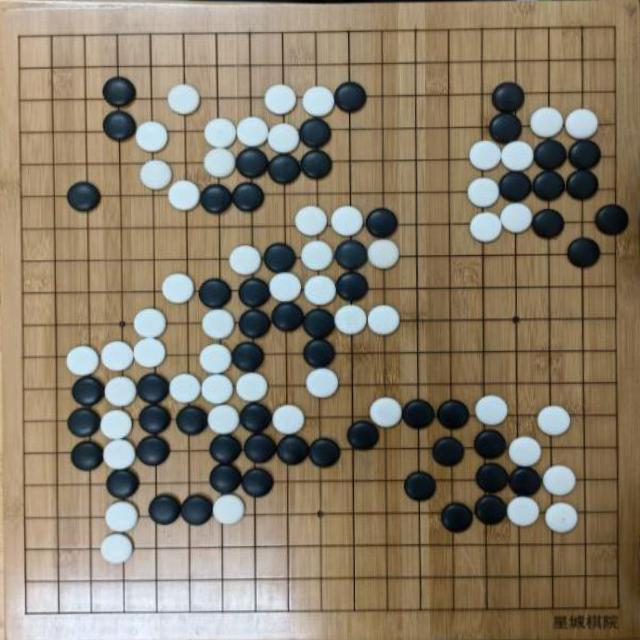blackstone: (534, 138, 568, 171), (263, 242, 297, 274), (334, 239, 368, 271), (476, 462, 510, 494), (567, 139, 601, 171), (532, 170, 566, 202), (489, 112, 523, 144), (565, 169, 599, 201), (70, 440, 104, 472), (180, 494, 214, 526), (474, 494, 508, 526), (596, 204, 630, 236), (567, 237, 601, 269), (67, 181, 101, 213), (473, 429, 508, 460), (136, 436, 172, 466), (303, 308, 336, 340), (239, 402, 272, 434), (236, 147, 269, 179), (103, 110, 136, 142), (136, 372, 170, 403), (138, 404, 172, 435), (198, 278, 232, 309), (402, 399, 436, 430), (302, 338, 336, 369), (67, 407, 101, 438), (267, 153, 301, 184), (432, 436, 466, 467), (498, 171, 532, 202), (276, 435, 310, 466), (492, 82, 526, 113), (102, 76, 136, 107), (71, 376, 104, 407), (436, 399, 469, 430), (238, 277, 271, 308), (175, 405, 208, 436), (106, 468, 139, 499), (244, 433, 277, 464), (210, 463, 243, 494), (404, 471, 437, 502), (148, 494, 181, 525), (231, 342, 265, 372), (272, 302, 306, 332), (238, 309, 272, 339), (335, 272, 369, 302), (508, 466, 542, 496), (334, 82, 368, 112), (200, 183, 232, 214), (209, 434, 242, 464), (299, 118, 332, 148), (347, 420, 380, 450), (242, 468, 275, 498), (441, 502, 474, 532), (232, 182, 264, 212), (300, 150, 332, 180), (366, 208, 398, 238), (309, 438, 341, 468), (532, 209, 564, 239)
whitestone: (100, 408, 134, 441), (104, 501, 139, 533), (104, 375, 137, 408), (161, 273, 195, 305), (334, 304, 368, 336), (294, 205, 328, 237), (537, 405, 571, 437), (469, 211, 503, 243), (474, 395, 508, 427), (542, 464, 576, 496), (101, 340, 135, 372), (300, 240, 334, 272), (508, 436, 542, 468), (201, 373, 235, 405), (565, 108, 599, 140), (103, 438, 137, 470), (544, 502, 578, 534), (100, 532, 134, 564), (305, 368, 340, 399), (500, 202, 533, 234), (467, 176, 500, 208), (229, 244, 262, 276), (66, 345, 99, 377), (369, 396, 402, 428), (331, 205, 364, 237), (135, 121, 168, 153), (501, 140, 534, 172), (203, 148, 236, 180), (237, 116, 270, 148), (167, 83, 200, 115), (202, 308, 236, 339), (303, 275, 337, 306), (133, 337, 167, 368), (198, 344, 232, 375), (530, 107, 564, 138), (207, 404, 241, 435), (507, 496, 541, 527), (368, 238, 400, 270), (168, 179, 200, 211), (140, 159, 172, 191), (272, 404, 305, 435), (469, 140, 502, 171), (212, 494, 245, 525), (133, 308, 167, 338), (170, 373, 202, 404), (302, 85, 334, 116), (268, 122, 300, 153), (264, 84, 296, 115), (269, 272, 302, 302), (204, 118, 237, 148), (236, 372, 268, 402), (368, 305, 399, 335)
